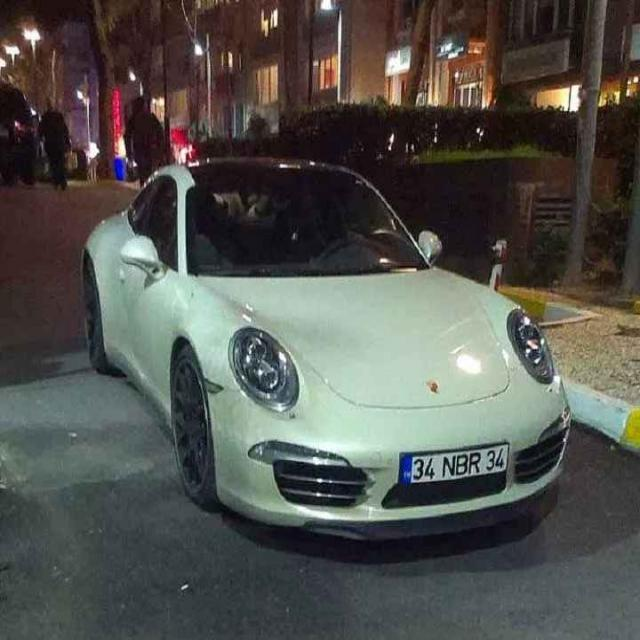plate: (399, 443, 510, 484)
